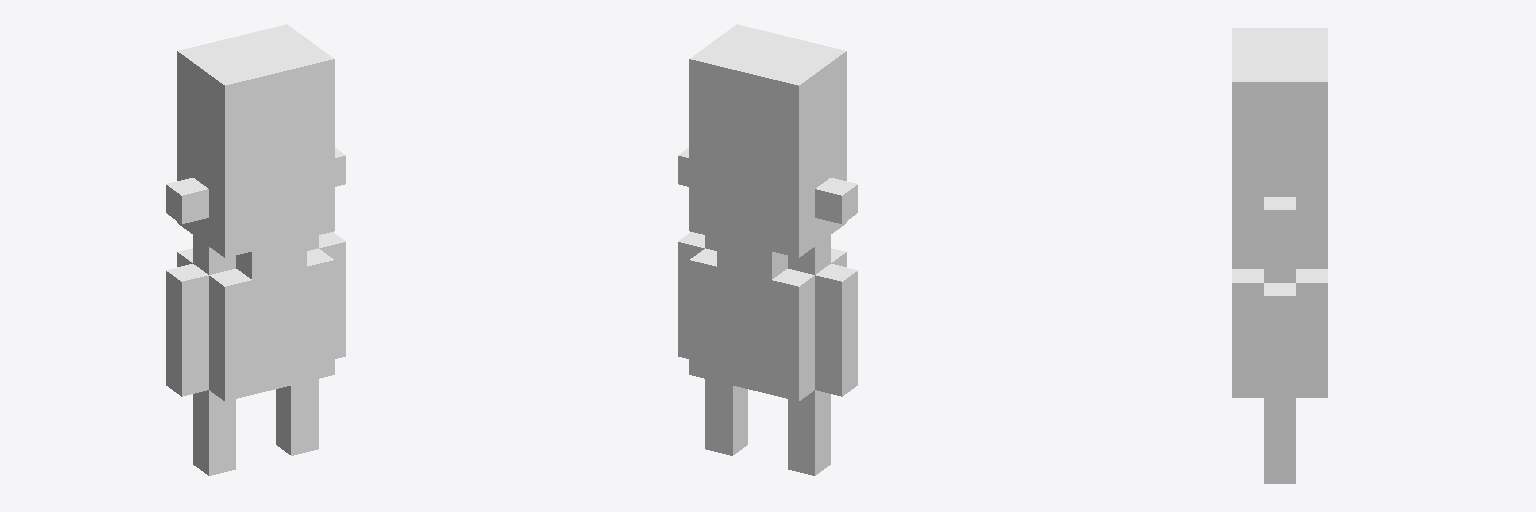
The model's file is eminem.obj.
3 renders of one model, left to right at view 1: azimuth 30°, elevation 25°; view 2: azimuth 150°, elevation 25°; view 3: azimuth 270°, elevation 25°, orthographic.
Visible parts, largest first — view 1: object 1; view 2: object 1; view 3: object 1.
Boxes of the visible parts, x1,y1,x2,y2 form: object 1: [166, 24, 345, 475]; object 1: [678, 24, 857, 475]; object 1: [1232, 28, 1327, 483].
Size of the model in its own units: 0.6 by 1.4 by 0.3.